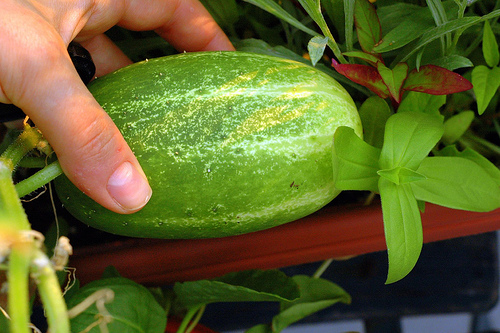cucumber: (48, 54, 363, 229)
